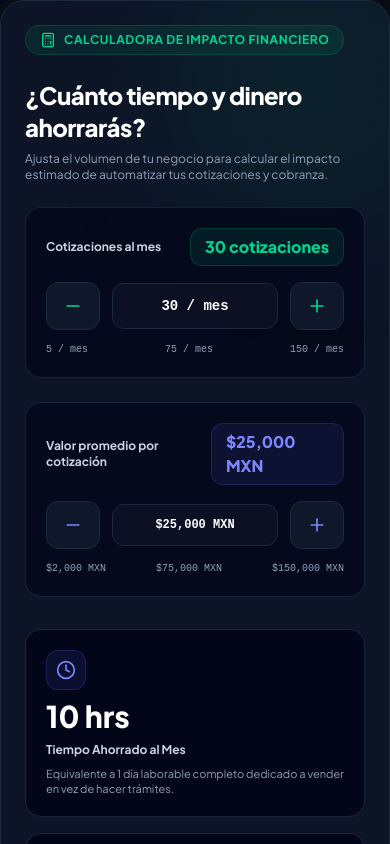
Test case: RoiCalculator Component & Steppers Suite › updates financial outputs when values change via steppers
The width and height of the screenshot is (390, 844).
Check: the text "10 hrs" is shown, box [46,697,130,735]
Click the button named "Aumentar cotizaciones". click: (317, 306)
box: [290,282,344,330]
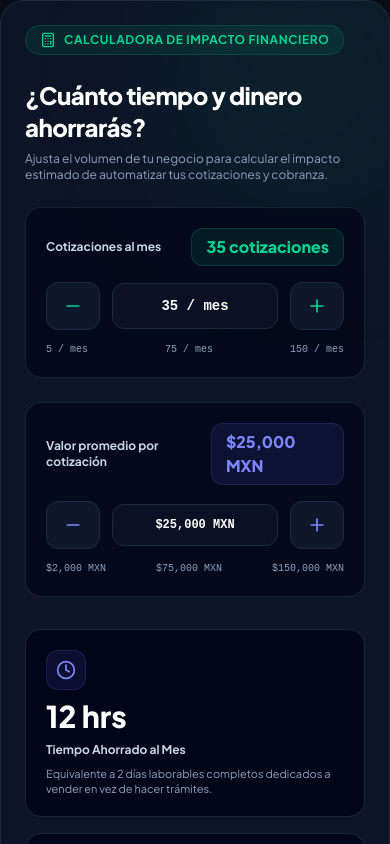
Click the button named "Aumentar cotizaciones". click: (317, 306)
box: [290,282,344,330]
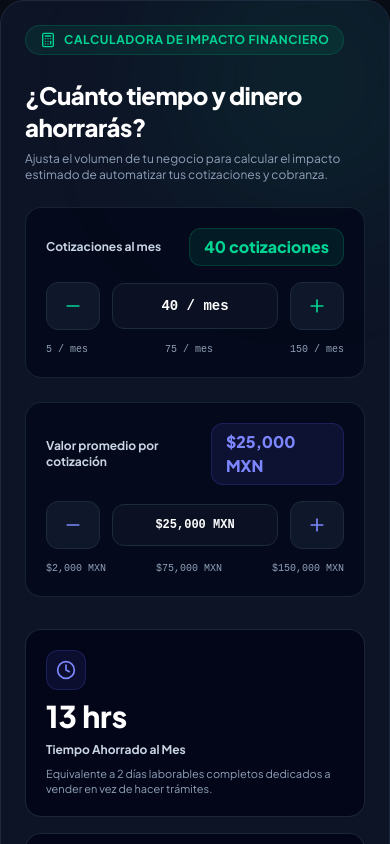
Click the button named "Aumentar cotizaciones". click: (317, 306)
box: [290,282,344,330]
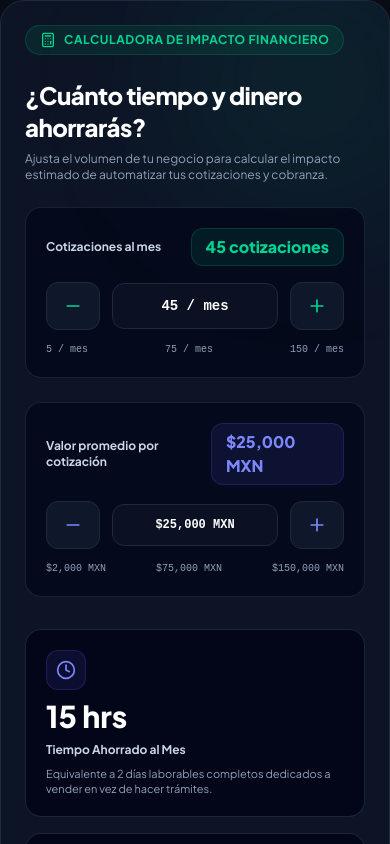
Click the button named "Aumentar cotizaciones". click: (317, 306)
box: [290,282,344,330]
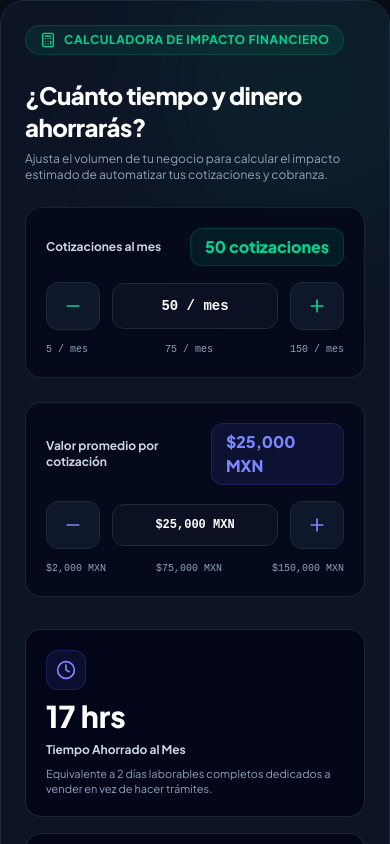
Click the button named "Aumentar cotizaciones". click: (317, 306)
box: [290,282,344,330]
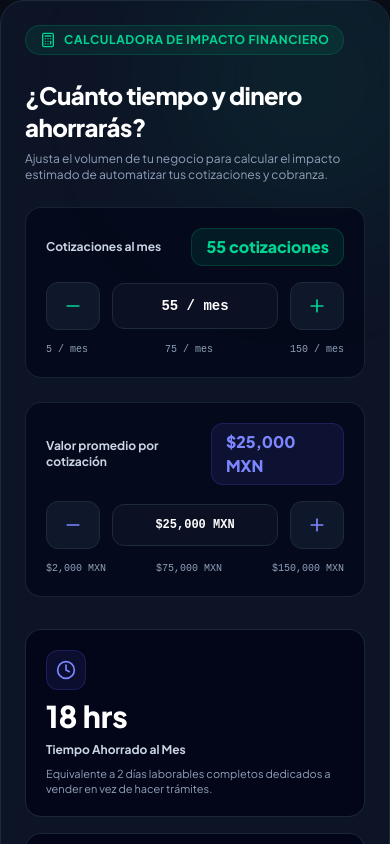
Click the button named "Aumentar cotizaciones". click: (317, 306)
box: [290,282,344,330]
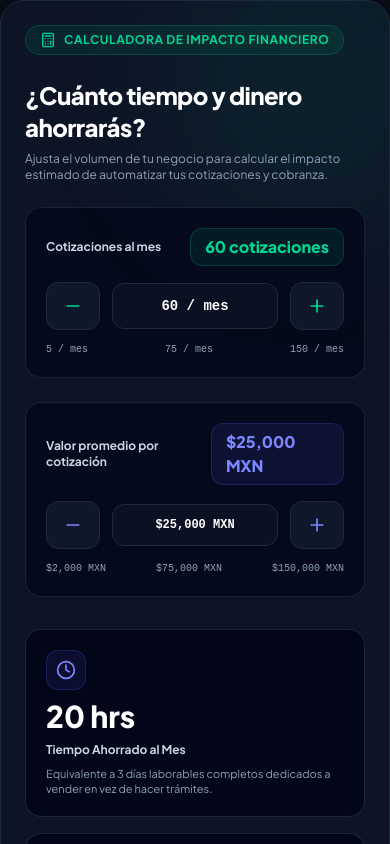
Check: the text "20 hrs" is shown, box [46,697,135,735]
